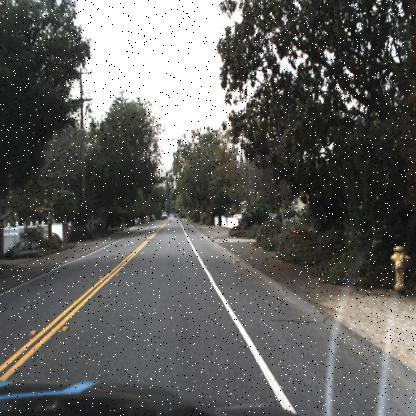car: (162, 212, 167, 220)
